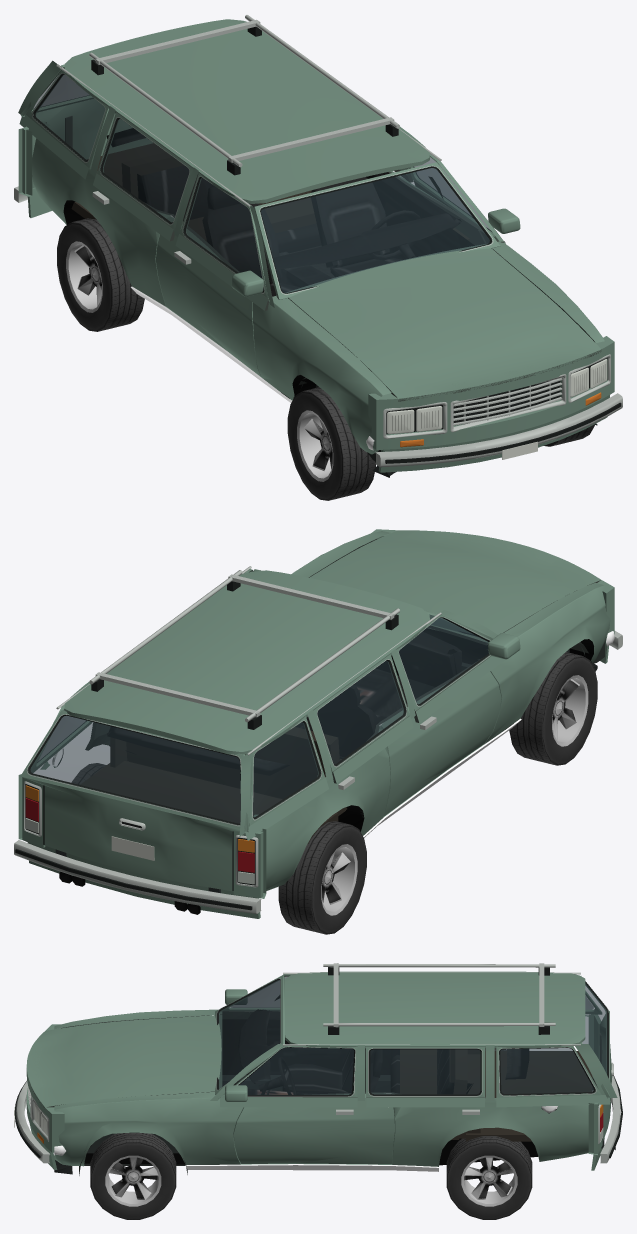
The model's file is estate-candidate.glb.
The picture shows the model from 3 angles, top to bottom: view 1: azimuth 30°, elevation 25°; view 2: azimuth 150°, elevation 25°; view 3: azimuth 270°, elevation 25°; orthographic projection. The views are drawn at different scales.
Parts seen in each view (by area): view 1: panel_BodyRoof, panel_hood_EstateStamping, glass_Windshield, panel_FrontValanceEstateHeader, panel_FrontFenderL_83, panel_BodyDoorL_78, Wheel_132, Wheel_138, glass_BodyDoorRearL, glass_BodyDoorL, detail_22_14, glass_CargoL (+44 smaller); view 2: panel_BodyRoof, panel_hood_EstateStamping, glass_TailgateRear, panel_TailgateEstateStamping, panel_BodyDoorL_78, panel_FrontFenderL_83, Interior Estate cargo floor, Interior Estate rear seat back, Wheel_138, Wheel_132, glass_BodyDoorRearL, glass_BodyDoorL (+33 smaller); view 3: panel_BodyRoof, panel_hood_EstateStamping, panel_BodyDoorR_69, panel_FrontFenderR_74, glass_BodyDoorRearR, glass_BodyDoorR, Interior Estate cargo floor, glass_Windshield, Wheel_129, panel_RearQuarterR_73, Wheel_135, glass_CargoR (+44 smaller).
Part boxes in pixels (x1,y1,x2,y2): panel_BodyRoof: (64, 19, 429, 203); panel_hood_EstateStamping: (286, 244, 601, 398); glass_Windshield: (261, 168, 489, 292); panel_FrontValanceEstateHeader: (368, 336, 614, 449); panel_FrontFenderL_83: (261, 302, 382, 454); panel_BodyDoorL_78: (176, 249, 272, 385); Wheel_132: (287, 387, 375, 500); Wheel_138: (57, 218, 144, 331); glass_BodyDoorRearL: (103, 119, 189, 222); glass_BodyDoorL: (186, 178, 263, 290); detail_22_14: (202, 186, 300, 296); glass_CargoL: (35, 75, 104, 159); panel_BodyRoof: (64, 570, 429, 754); panel_hood_EstateStamping: (309, 530, 600, 642); glass_TailgateRear: (30, 715, 240, 823); panel_TailgateEstateStamping: (21, 776, 248, 891); panel_BodyDoorL_78: (404, 661, 508, 801); panel_FrontFenderL_83: (497, 585, 610, 735); Interior Estate cargo floor: (80, 761, 338, 843); Interior Estate rear seat back: (126, 727, 339, 798); Wheel_138: (278, 821, 366, 934); Wheel_132: (509, 652, 597, 765); glass_BodyDoorRearL: (317, 661, 403, 764); glass_BodyDoorL: (399, 618, 488, 704); panel_BodyRoof: (285, 971, 585, 1048); panel_hood_EstateStamping: (26, 1014, 222, 1107); panel_BodyDoorR_69: (222, 1101, 361, 1164); panel_FrontFenderR_74: (54, 1098, 222, 1166); glass_BodyDoorRearR: (370, 1049, 480, 1094); glass_BodyDoorR: (240, 1047, 353, 1094); Interior Estate cargo floor: (466, 1051, 592, 1141); glass_Windshield: (219, 980, 280, 1088); Wheel_129: (90, 1132, 176, 1219); panel_RearQuarterR_73: (490, 1098, 588, 1161); Wheel_135: (446, 1136, 532, 1219); glass_CargoR: (500, 1048, 593, 1093).
Size of what is drawn, in the model's own units: 1.95 by 1.56 by 4.82.
Materials: 25 (4 with a texture image).
